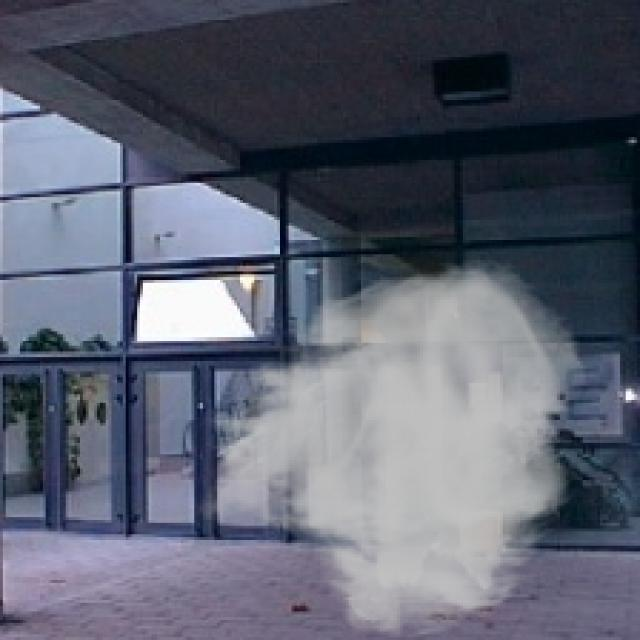Smoke: (194, 257, 592, 637)
